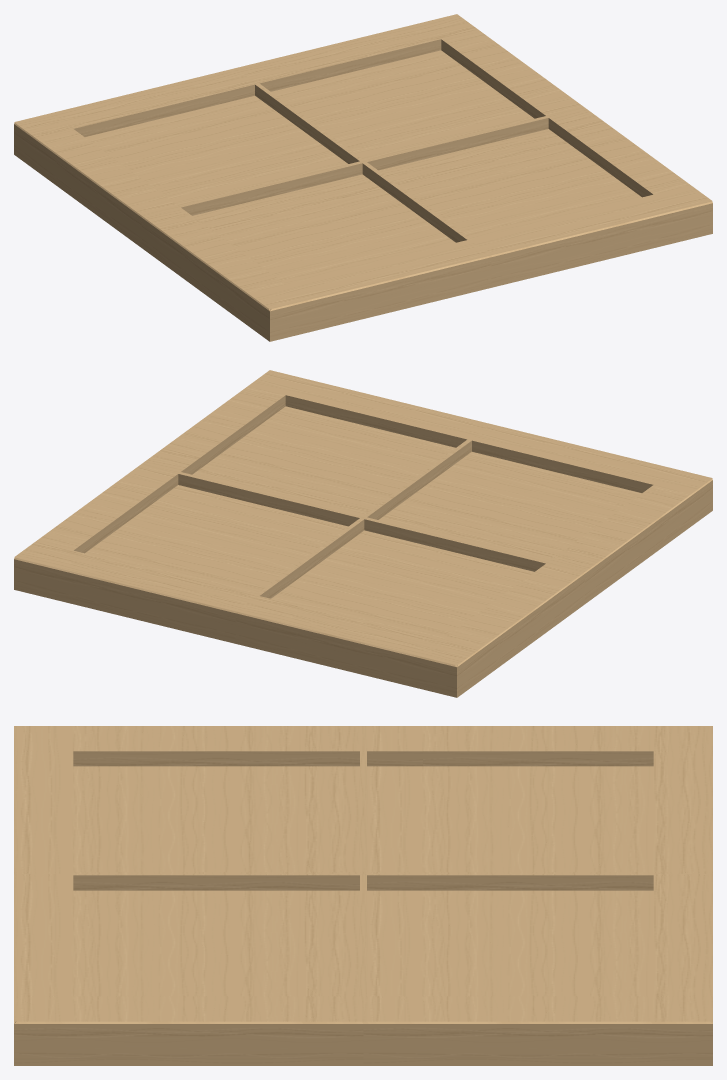
Rendered from frame.glb.
3 renders of one model, top to bottom at view 1: azimuth 30°, elevation 25°; view 2: azimuth 150°, elevation 25°; view 3: azimuth 270°, elevation 25°, orthographic. The views are drawn at different scales.
Parts seen in each view (by area): view 1: frame; view 2: frame; view 3: frame.
Boxes of the visible parts, left/top/right/bottom form: frame: left=14, top=14, right=712, bottom=341; frame: left=14, top=370, right=712, bottom=697; frame: left=14, top=726, right=712, bottom=1065.
Size of the model in its own units: 0.5 by 0.035 by 0.5.
Materials: 1 (1 with a texture image).
